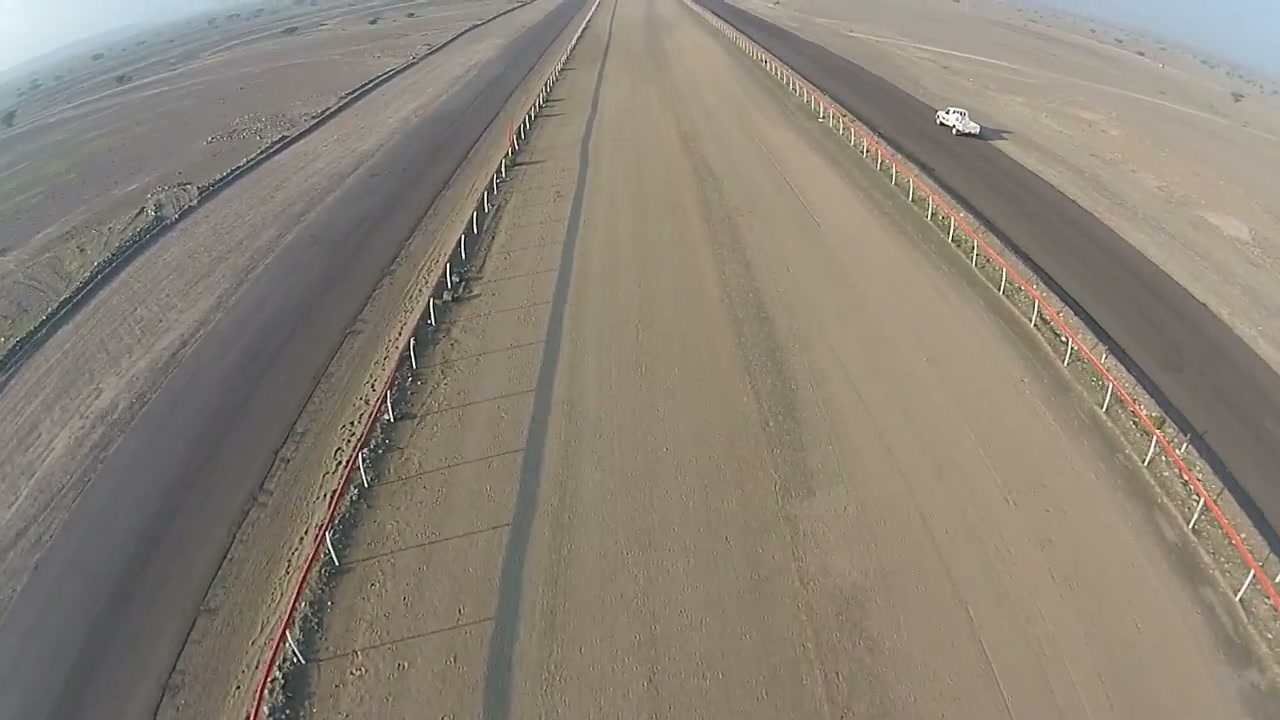animal_footprint: (312, 317, 499, 719), (570, 374, 704, 717)
